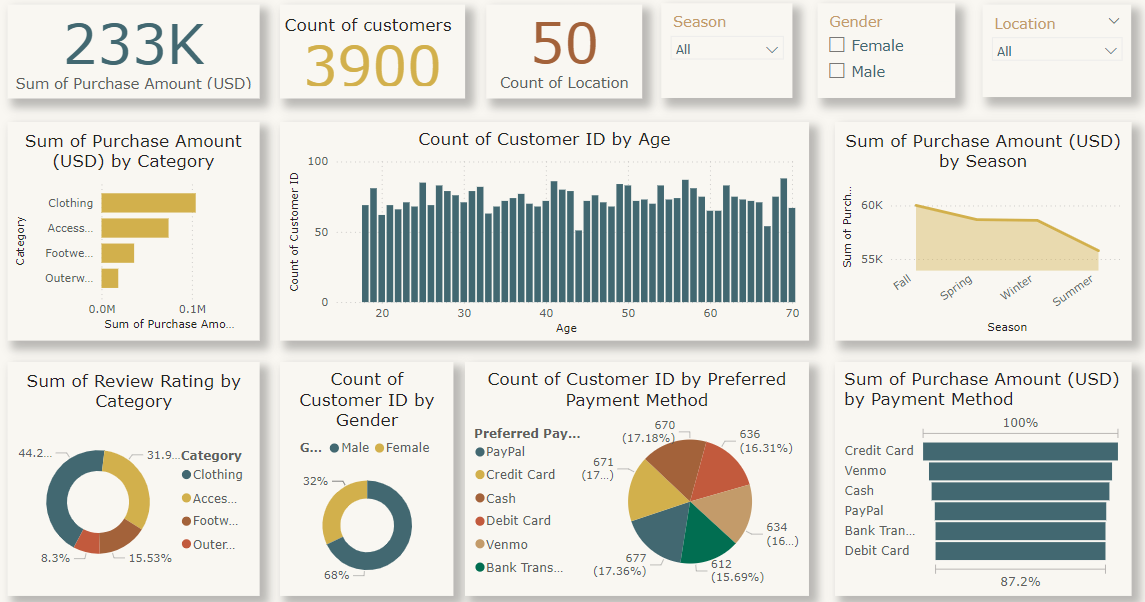

Layout of this report page (visuals, bound fields, positions):
{"tool":"powerbi","page":{"name":"Page 1","canvas":[1280,720],"ordinal":0},"visuals":[{"type":"card","fields":{"Values":["Sum(shopping_trends.Purchase Amount (USD))"]},"box":[13.7,57.6,277.2,102.9],"z":0},{"type":"card","title":"Count of customers","fields":{"Values":["CountNonNull(shopping_trends.Customer ID)"]},"box":[312.9,57.6,203.1,102.9],"z":1000},{"type":"card","fields":{"Values":["Count(shopping_trends.Location)"]},"box":[539.3,57.6,171.5,102.9],"z":2000},{"type":"slicer","fields":{"Values":["shopping_trends.Gender"]},"box":[902.9,56.3,150.9,104.3],"z":3000},{"type":"slicer","fields":{"Values":["shopping_trends.Season"]},"box":[731.4,56.3,144.1,104.3],"z":4000},{"type":"slicer","fields":{"Values":["shopping_trends.Location"]},"box":[1084.1,57.6,163.3,101.5],"z":5000},{"type":"clusteredBarChart","fields":{"Category":["shopping_trends.Category"],"Y":["Sum(shopping_trends.Purchase Amount (USD))"]},"box":[13.7,186.6,277.2,240.1],"z":6000},{"type":"clusteredColumnChart","fields":{"Y":["CountNonNull(shopping_trends.Customer ID)"],"Category":["shopping_trends.Age"]},"box":[312.9,186.6,580.4,240.1],"z":7000},{"type":"stackedAreaChart","fields":{"Category":["shopping_trends.Season"],"Y":["Sum(shopping_trends.Purchase Amount (USD))"]},"box":[922.1,186.6,325.2,240.1],"z":8000},{"type":"donutChart","fields":{"Y":["Sum(shopping_trends.Review Rating)"],"Category":["shopping_trends.Category"]},"box":[13.7,450.1,277.2,256.6],"z":8001},{"type":"donutChart","fields":{"Y":["CountNonNull(shopping_trends.Customer ID)"],"Category":["shopping_trends.Gender"]},"box":[312.9,450.1,190.7,256.6],"z":8002},{"type":"pieChart","fields":{"Category":["shopping_trends.Preferred Payment Method"],"Y":["CountNonNull(shopping_trends.Customer ID)"]},"box":[516,450.1,377.4,256.6],"z":8003},{"type":"funnel","fields":{"Y":["Sum(shopping_trends.Purchase Amount (USD))"],"Category":["shopping_trends.Payment Method"]},"box":[922.1,450.1,325.2,256.6],"z":8004}]}

Visuals, with their boxes on the page's 1280x720 design canvas (x1, y1, x2, y2). These are canvas units, not pixel positions in the 1145x602 screenshot, which may show the page scaled, cropped or inside an application window:
card - Sum(shopping_trends.Purchase Amount (USD)): <bbox>14, 58, 291, 160</bbox>
"Count of customers" card: <bbox>313, 58, 516, 160</bbox>
card - Count(shopping_trends.Location): <bbox>539, 58, 711, 160</bbox>
slicer - shopping_trends.Gender: <bbox>903, 56, 1054, 161</bbox>
slicer - shopping_trends.Season: <bbox>731, 56, 876, 161</bbox>
slicer - shopping_trends.Location: <bbox>1084, 58, 1247, 159</bbox>
clusteredBarChart - shopping_trends.Category x Sum(shopping_trends.Purchase Amount (USD)): <bbox>14, 187, 291, 427</bbox>
clusteredColumnChart - CountNonNull(shopping_trends.Customer ID) x shopping_trends.Age: <bbox>313, 187, 893, 427</bbox>
stackedAreaChart - shopping_trends.Season x Sum(shopping_trends.Purchase Amount (USD)): <bbox>922, 187, 1247, 427</bbox>
donutChart - Sum(shopping_trends.Review Rating) x shopping_trends.Category: <bbox>14, 450, 291, 707</bbox>
donutChart - CountNonNull(shopping_trends.Customer ID) x shopping_trends.Gender: <bbox>313, 450, 504, 707</bbox>
pieChart - shopping_trends.Preferred Payment Method x CountNonNull(shopping_trends.Customer ID): <bbox>516, 450, 893, 707</bbox>
funnel - Sum(shopping_trends.Purchase Amount (USD)) x shopping_trends.Payment Method: <bbox>922, 450, 1247, 707</bbox>
